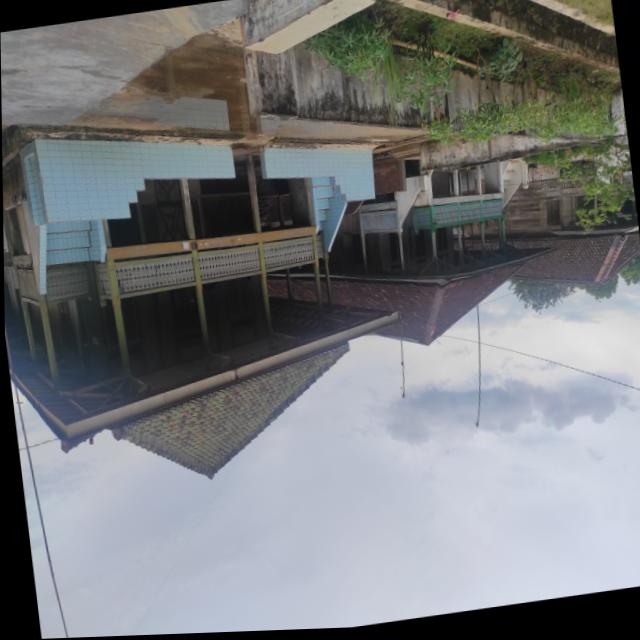Atap: (266, 246, 559, 345)
Kolom: (112, 299, 128, 362), (285, 267, 293, 298)
Ornamen: (197, 244, 262, 283), (263, 236, 315, 272), (459, 201, 482, 224), (316, 235, 323, 258)
Pintu: (98, 269, 138, 345), (386, 213, 404, 264)
Tangga: (45, 220, 91, 266), (293, 218, 311, 257), (503, 161, 515, 188)
Tembok Bangunan: (450, 175, 620, 239)
